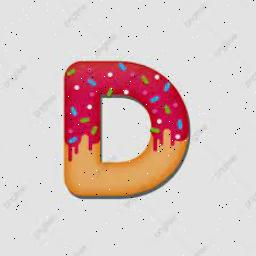d: (58, 62, 204, 206)
